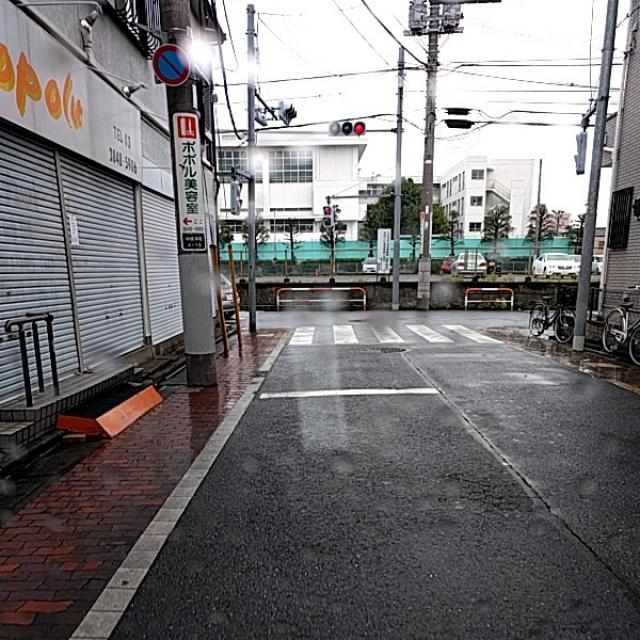pothole: (461, 427, 543, 502)
